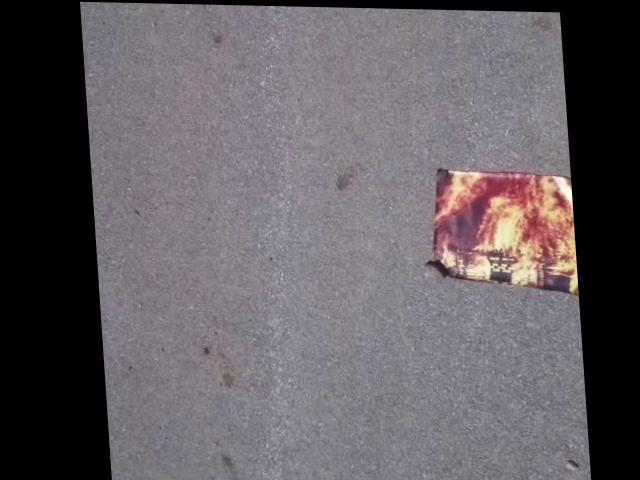fire-poster: (414, 162, 574, 296)
